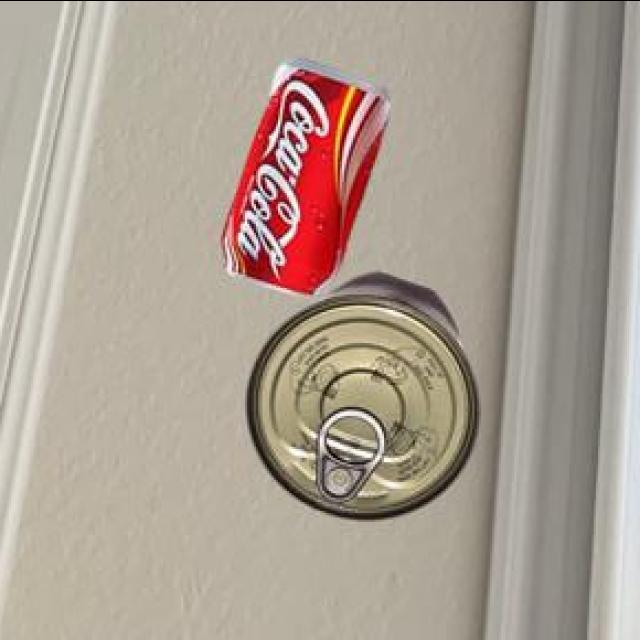logam: (250, 268, 482, 518), (226, 54, 394, 292)
